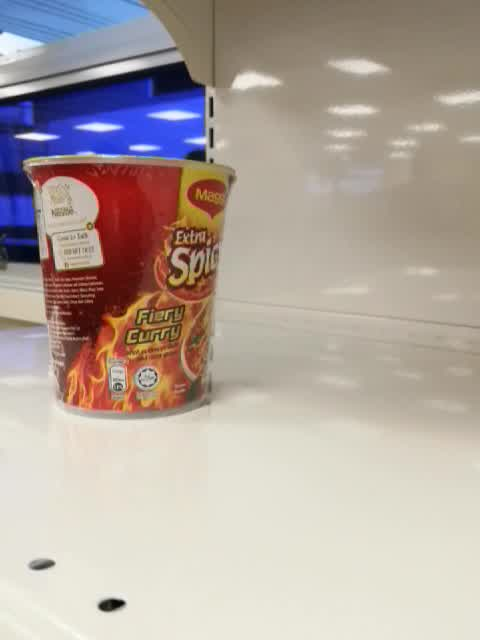maggi: (22, 154, 238, 421)
